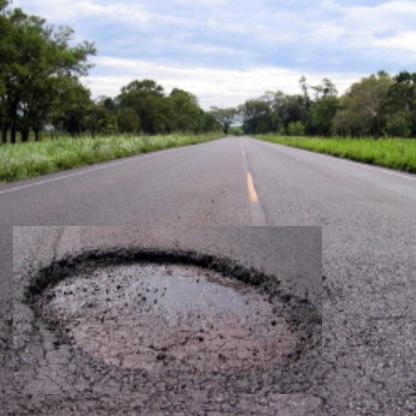pothole: (12, 226, 322, 395)
